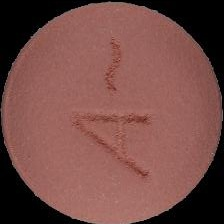0024-5501: (0, 0, 224, 224)
